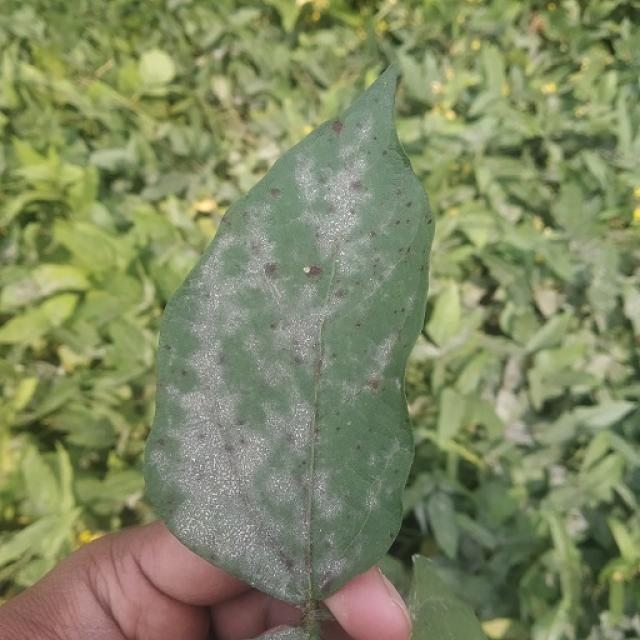Blackgram: (145, 69, 432, 610)
Powdery_Mildew: (200, 323, 324, 500), (184, 442, 316, 580), (306, 151, 419, 309), (318, 413, 394, 554), (318, 312, 401, 428), (172, 256, 253, 365), (181, 368, 248, 455), (174, 323, 240, 406), (264, 294, 339, 367), (173, 369, 222, 428), (321, 244, 341, 318), (260, 262, 290, 310), (413, 593, 453, 624), (399, 155, 411, 168), (350, 180, 363, 191), (335, 288, 347, 299), (204, 551, 215, 561), (293, 355, 303, 365), (162, 343, 172, 352), (326, 204, 335, 214), (221, 216, 230, 225), (181, 370, 188, 377), (348, 208, 355, 215)
